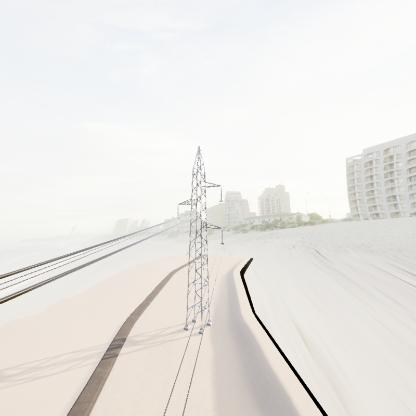tower: (166, 142, 228, 337)
